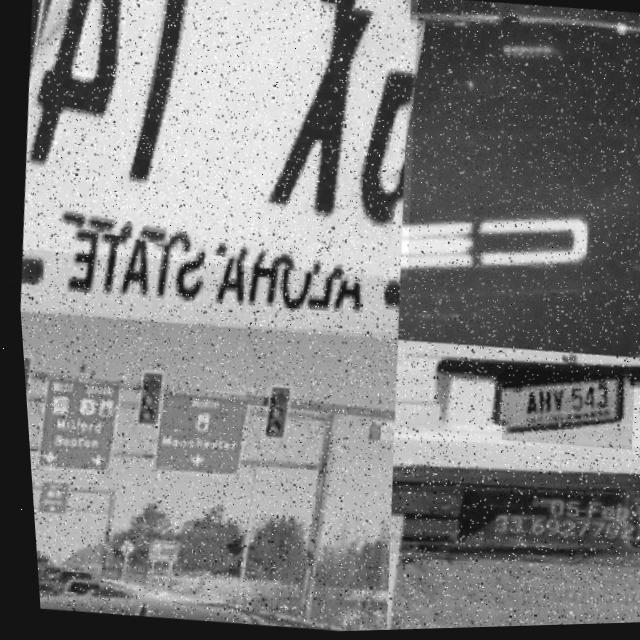LicensePlate: (6, 0, 432, 289), (491, 367, 632, 456)
